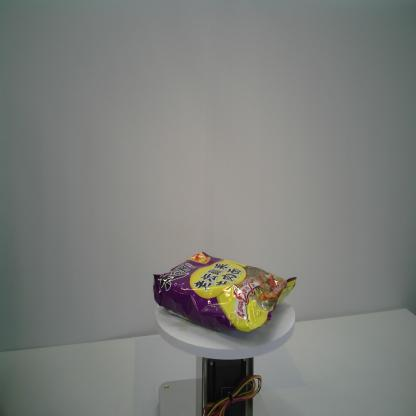Instant Noodles: (152, 249, 298, 334)
